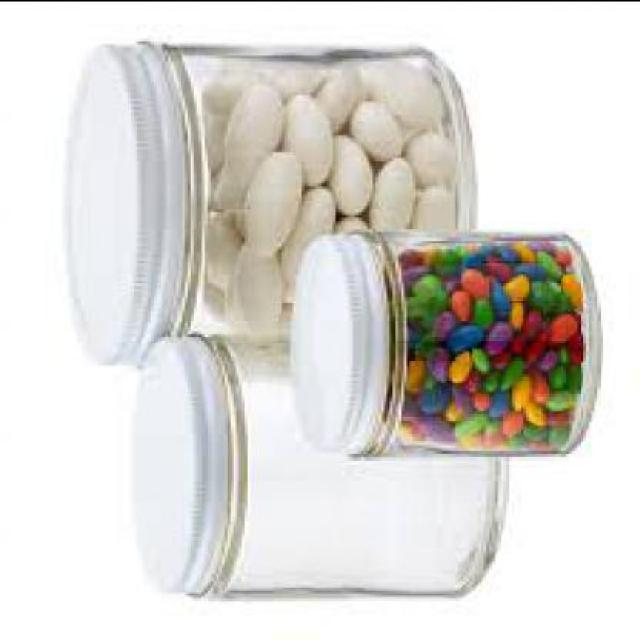BIODEGRADABLE: (398, 236, 580, 444), (242, 152, 302, 253), (278, 89, 336, 180), (364, 57, 441, 121), (224, 245, 274, 342), (217, 82, 278, 160), (324, 122, 376, 210), (364, 150, 418, 228), (202, 208, 244, 284), (197, 63, 246, 128), (313, 62, 362, 120), (347, 99, 396, 156), (398, 128, 450, 180), (284, 184, 328, 238), (406, 178, 452, 228), (208, 148, 245, 210), (259, 60, 321, 94), (199, 272, 224, 322), (330, 213, 367, 230)
GLASS: (148, 38, 469, 330), (202, 330, 504, 598), (358, 228, 598, 455)
METAL: (62, 43, 182, 362), (130, 330, 228, 592), (285, 228, 389, 446)
